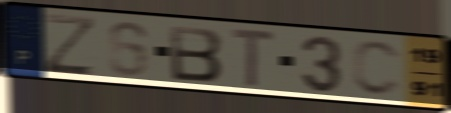3: (298, 33, 344, 95)
6: (108, 20, 150, 79)
B: (167, 23, 225, 84)
C: (350, 38, 404, 99)
T: (229, 25, 279, 91)
Z: (41, 11, 99, 78)
